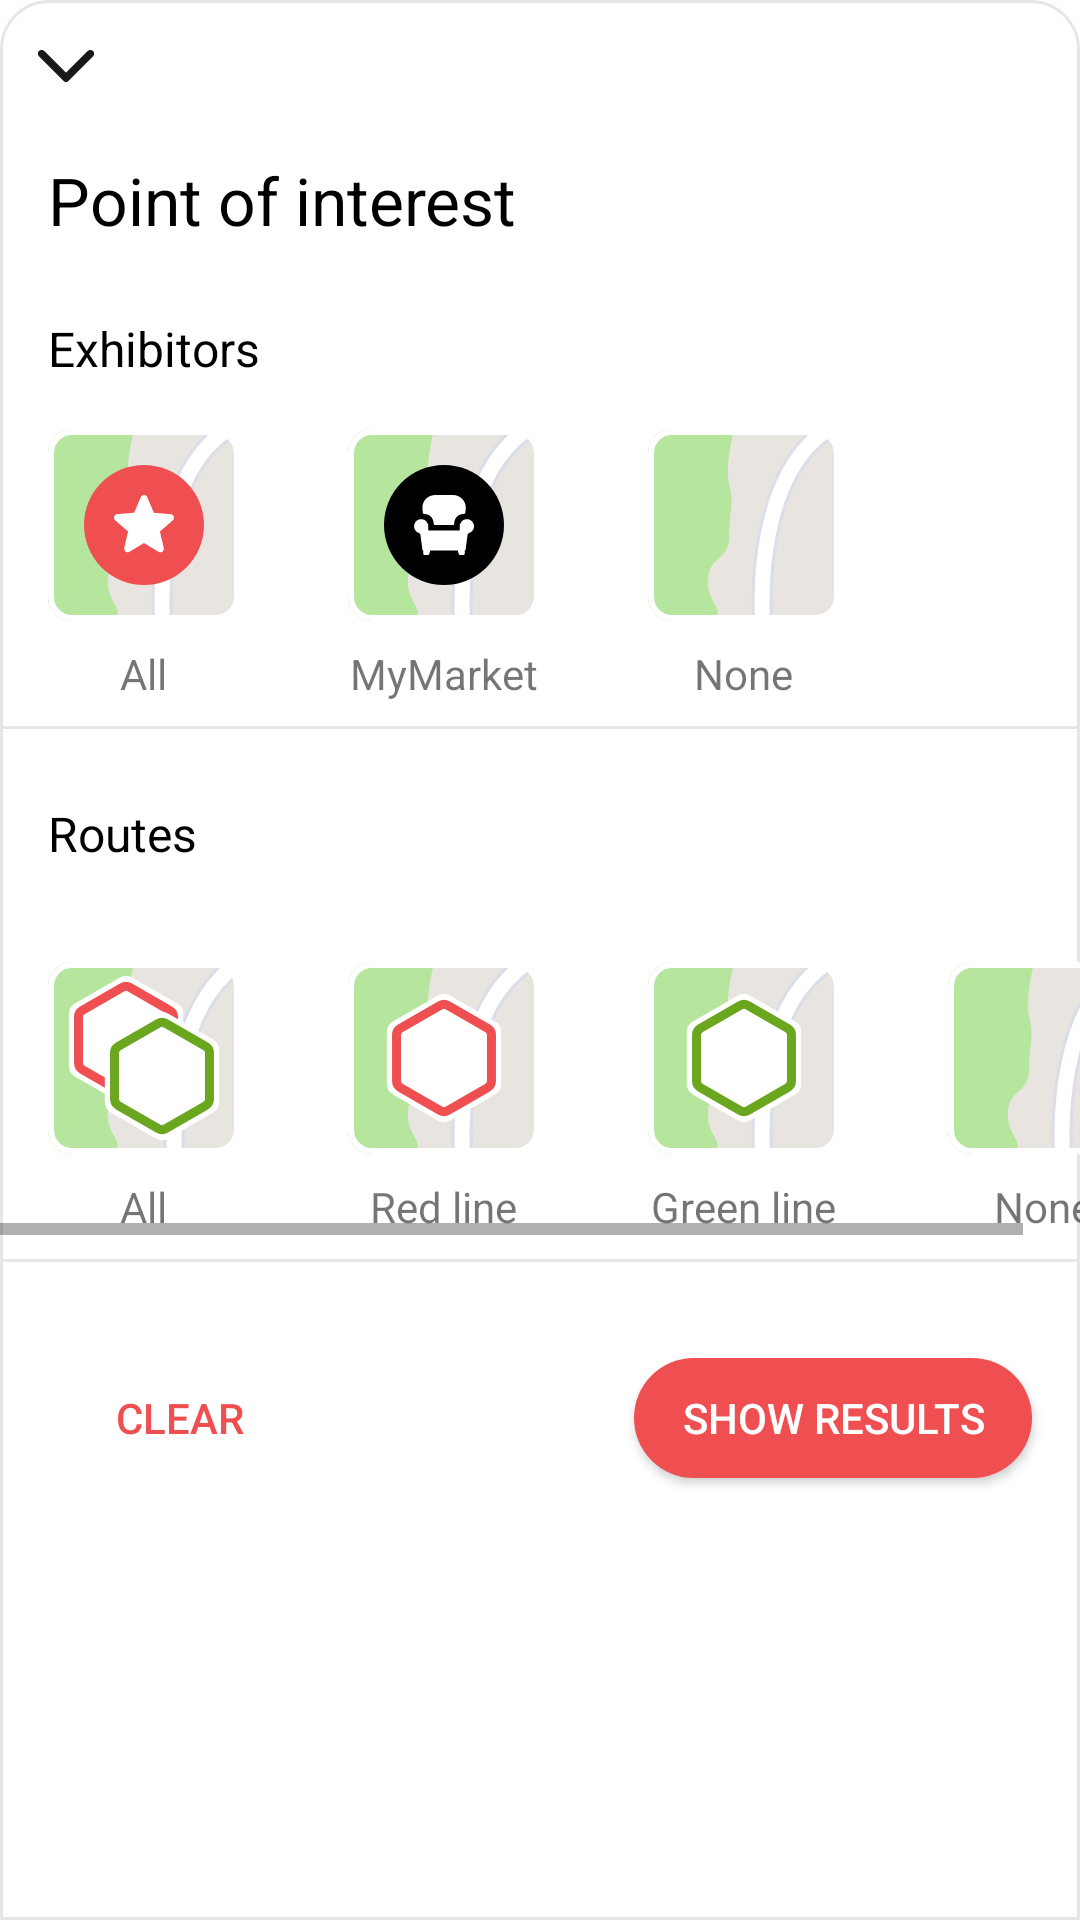

Where to tap for icons on this 1080px x 1920px app screen, as [x,y]:
down close: [66,66]
